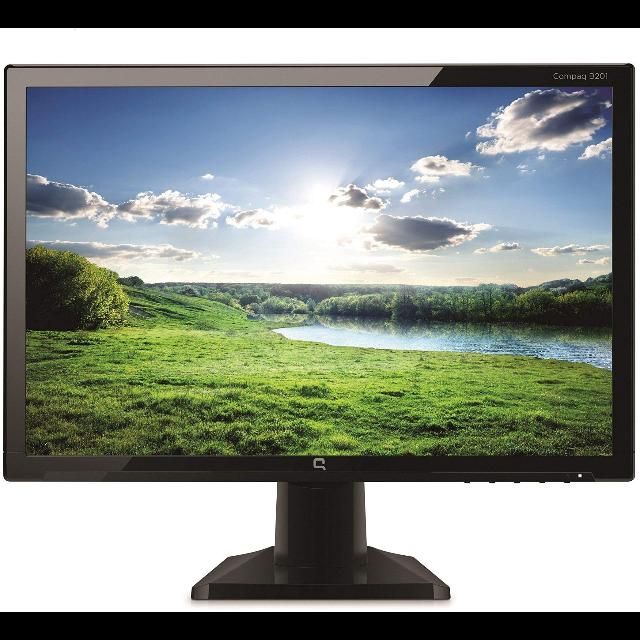Flat-Panel-Monitor: (6, 62, 632, 484)
